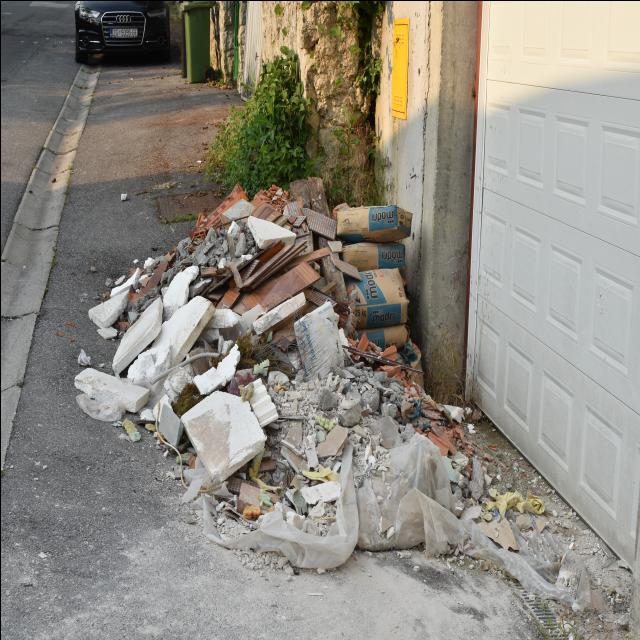entulho: (194, 215, 344, 348), (352, 431, 472, 558), (177, 379, 276, 502), (238, 494, 362, 576), (133, 294, 213, 382), (295, 376, 365, 456), (306, 175, 348, 307), (74, 364, 152, 418), (108, 293, 166, 365), (340, 260, 402, 326), (329, 198, 419, 240), (377, 370, 424, 432), (334, 236, 410, 271), (293, 178, 319, 264), (342, 322, 407, 356), (148, 230, 188, 284), (230, 184, 288, 218), (484, 485, 533, 517), (424, 416, 461, 454), (402, 336, 424, 389), (268, 352, 294, 390)
